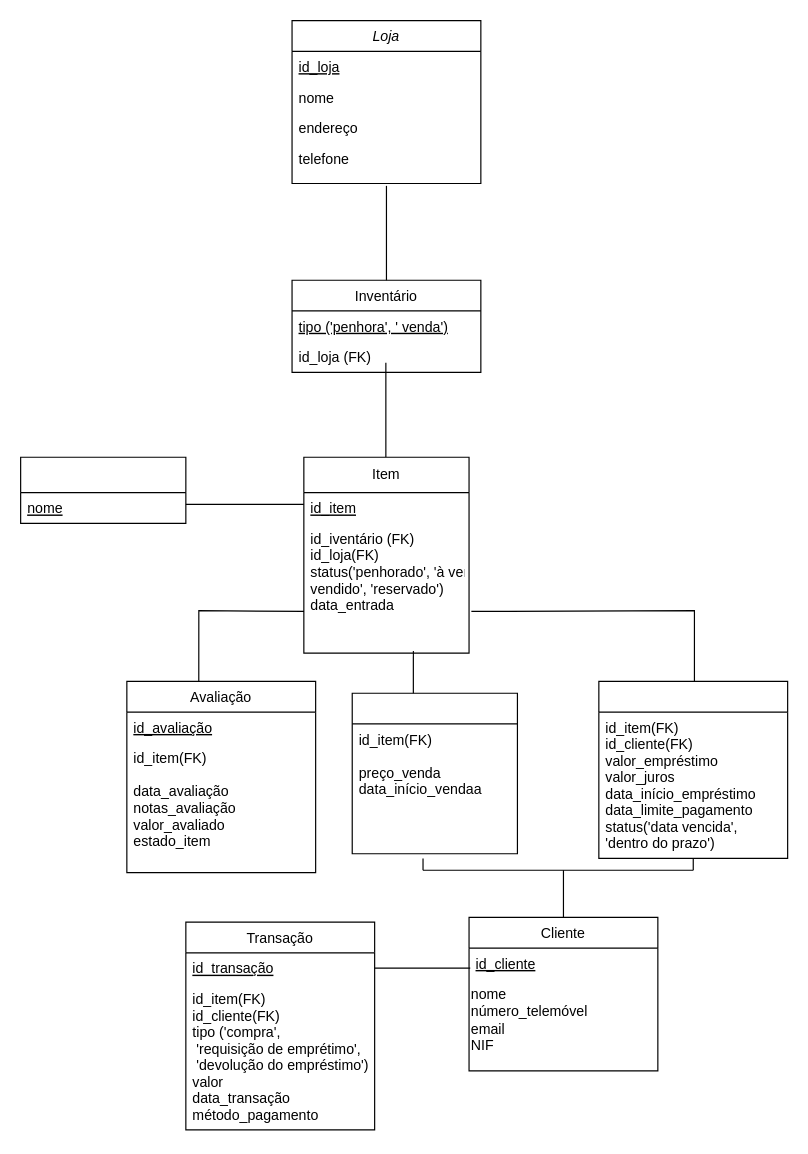
Image size: 808x1154. Some labels were removed from this diagram. The shapes that lost their labels are listed below. From the top down, each one's box as (x1, y1, x2, y2) in pixels, then its label:
(19, 456, 186, 523): Categoria
(351, 692, 517, 854): Termos de Venda
(598, 680, 788, 858): Termos de empréstimo
